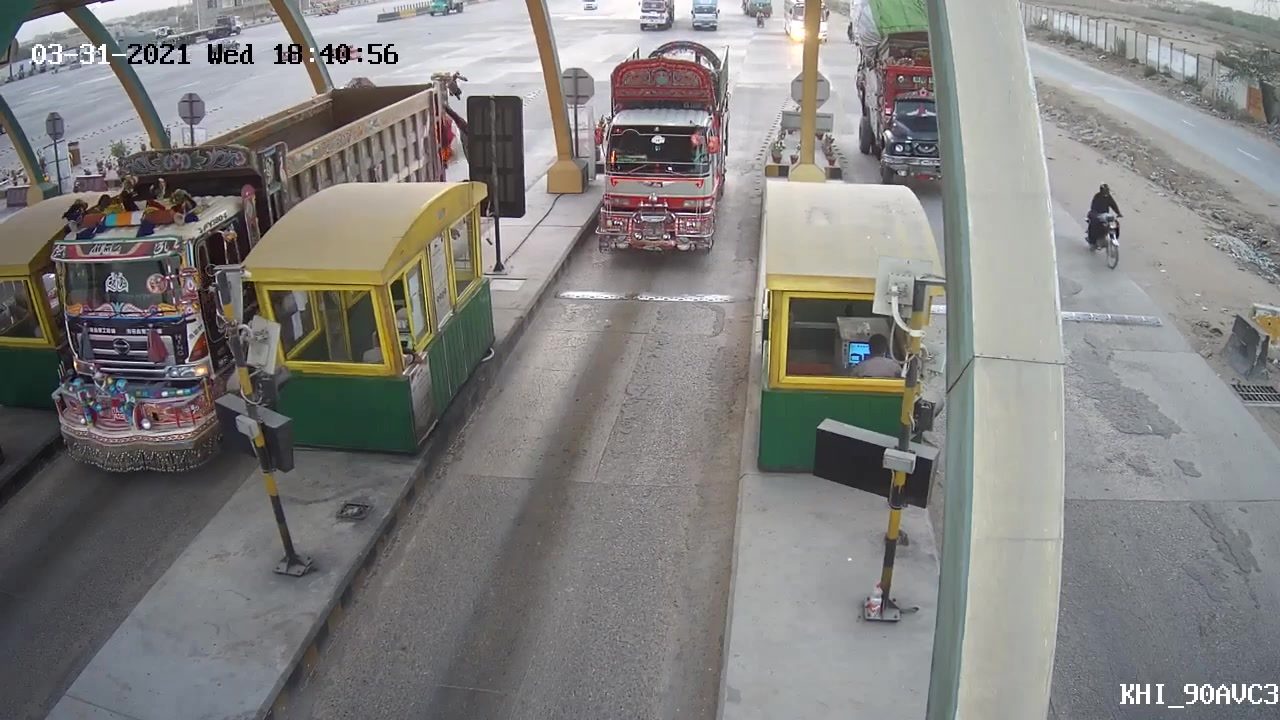F5: (579, 47, 738, 270)
